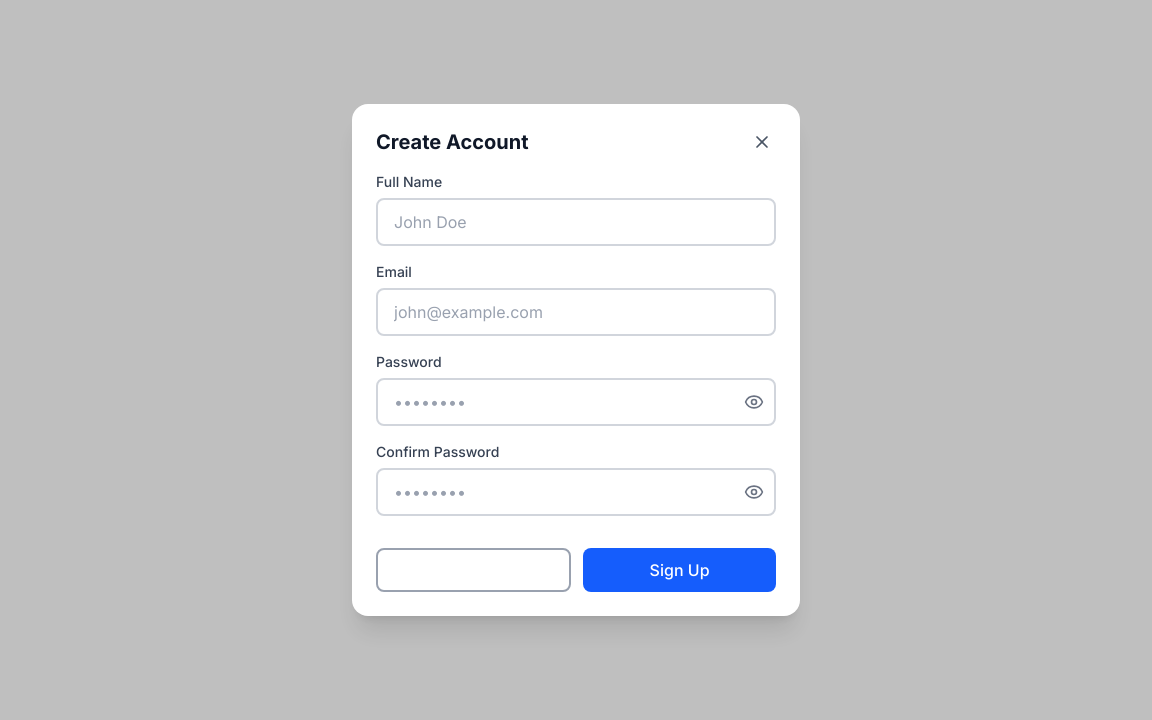
it: SignUpFormModal › should show error for name with consecutive spaces
The image size is (1152, 720).
Type "John  Doe" into the field with placeholder "John Doe" at coordinates (576, 222), box [376,198,776,246]
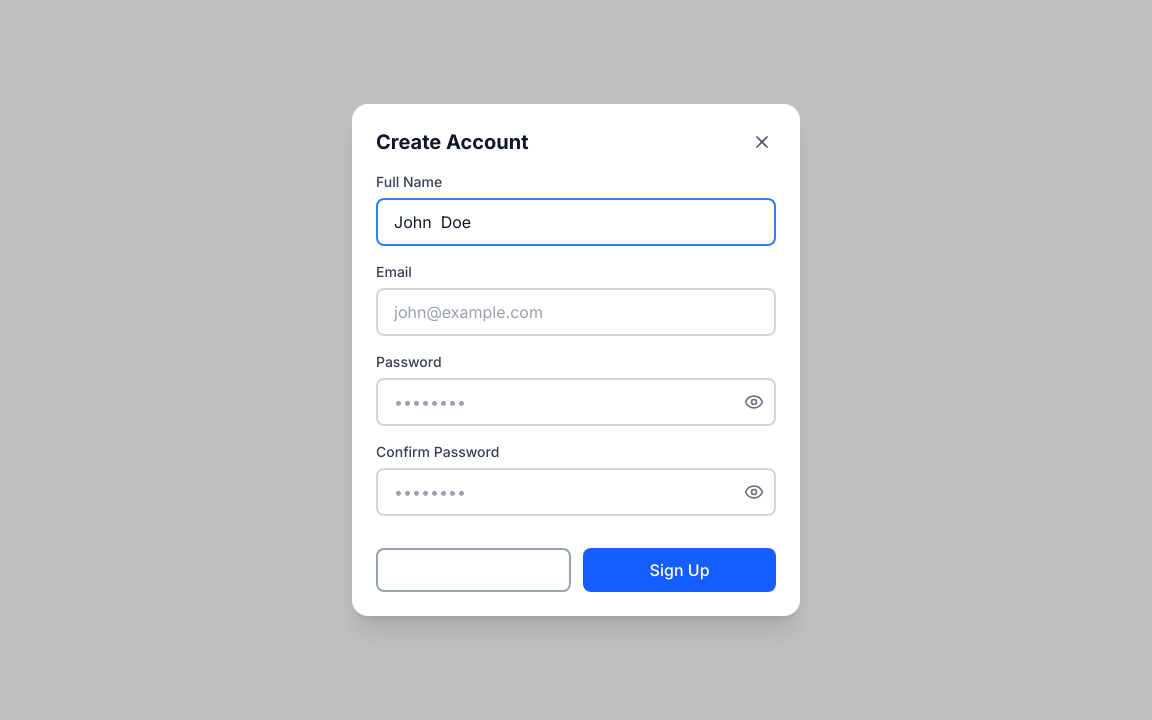
Submit the form, box [376,172,776,592]
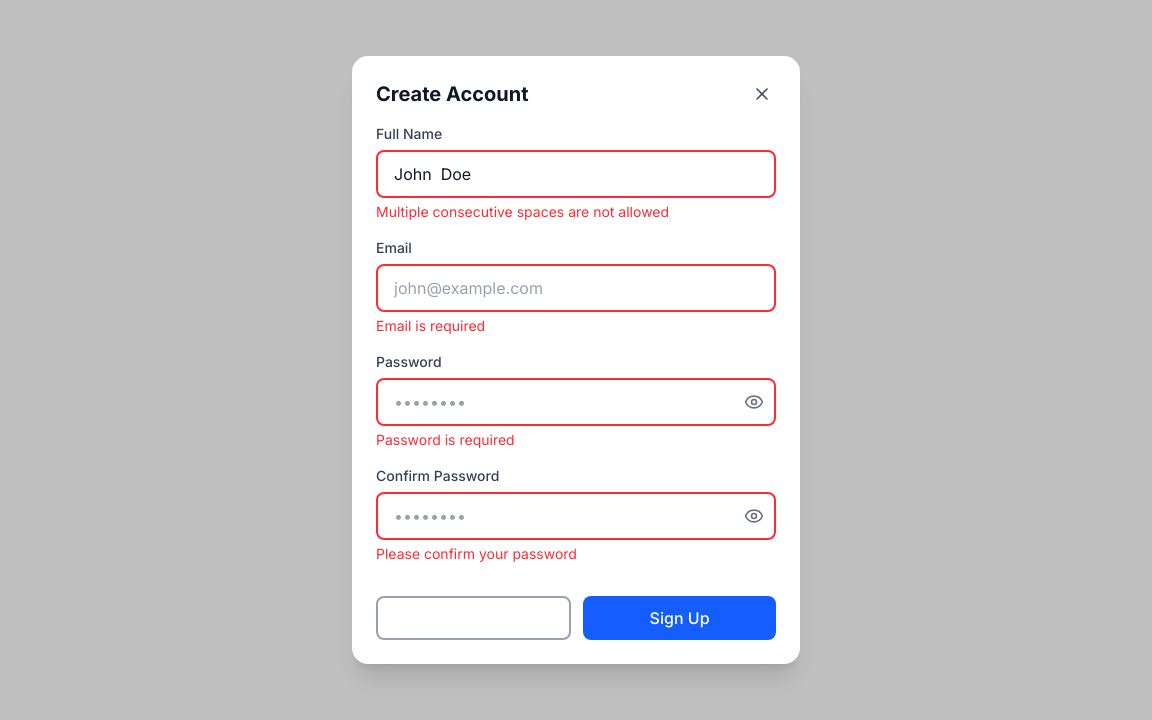
expect the text "Multiple consecutive spaces are not allowed" is shown: met, box [376,203,669,220]
